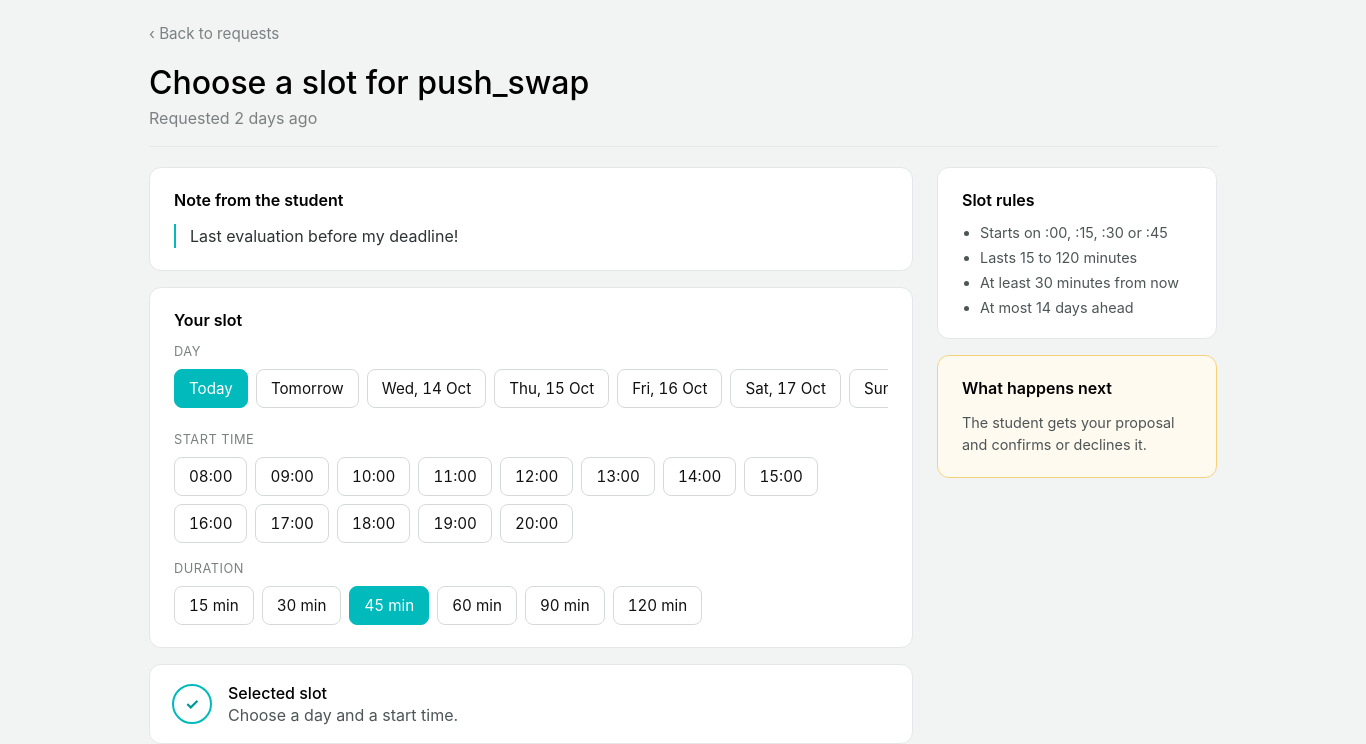
Test: PickSlotPage › keeps Submit disabled until a start time is chosen
The image size is (1366, 744).
Expected: the heading "Choose a slot for push_swap" is shown, [149, 63, 589, 102]
Click the button "Tomorrow": (307, 388) [256, 369, 359, 408]
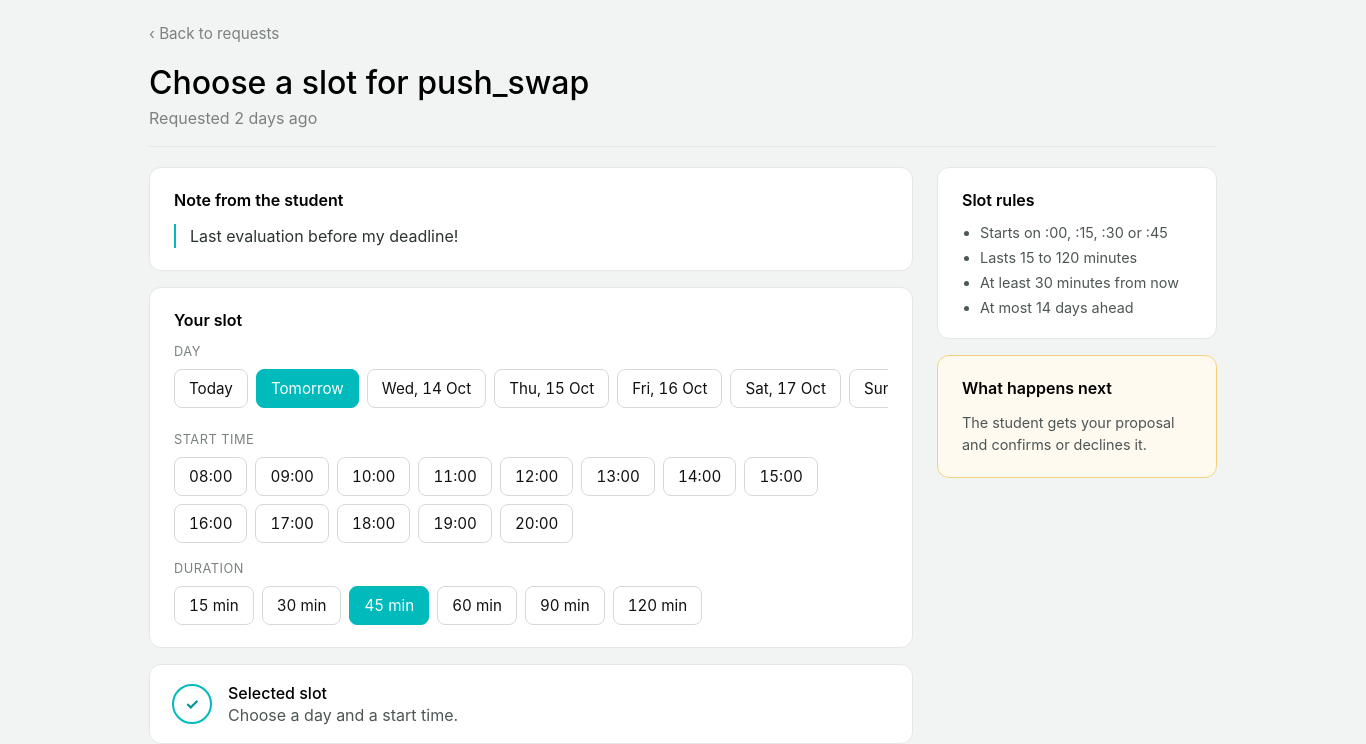
Click the button "10:00": (374, 476) [337, 457, 410, 496]
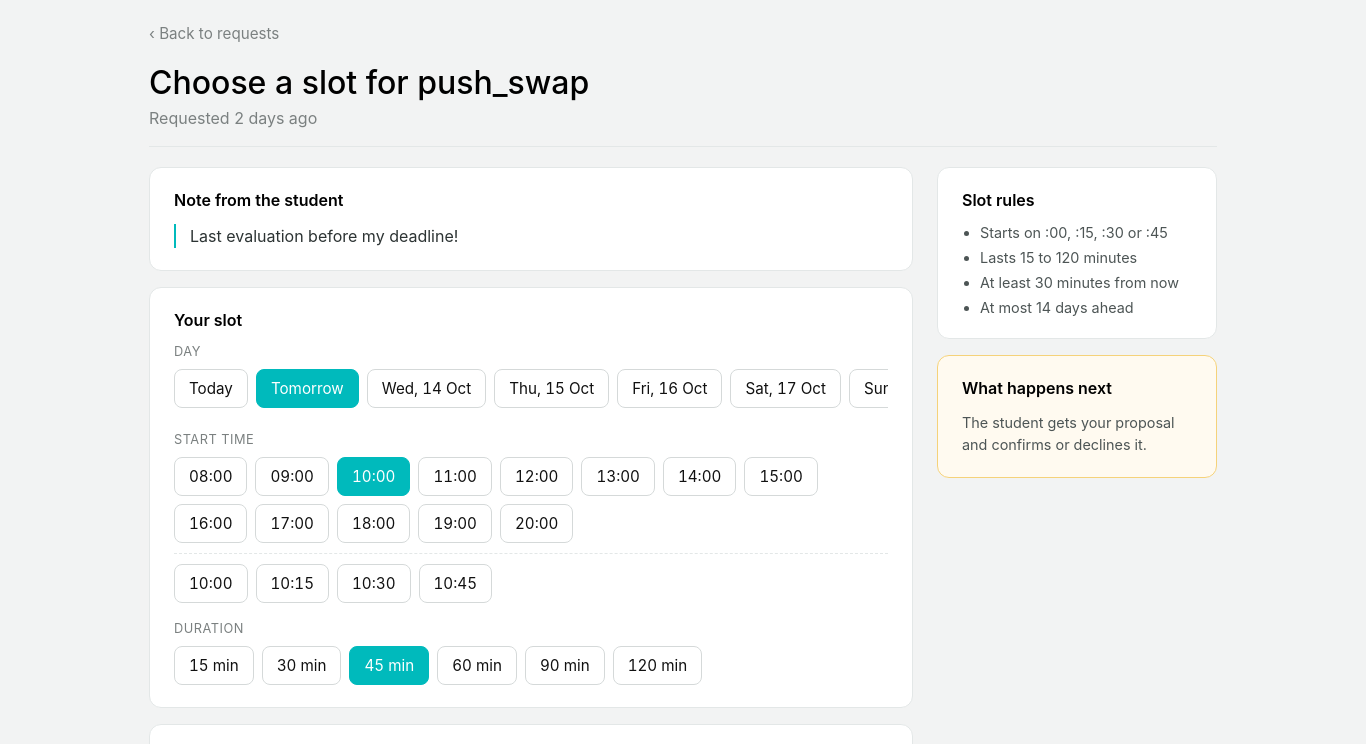
Click the button "10:15": (292, 584) [256, 564, 329, 603]
(page scrolled)
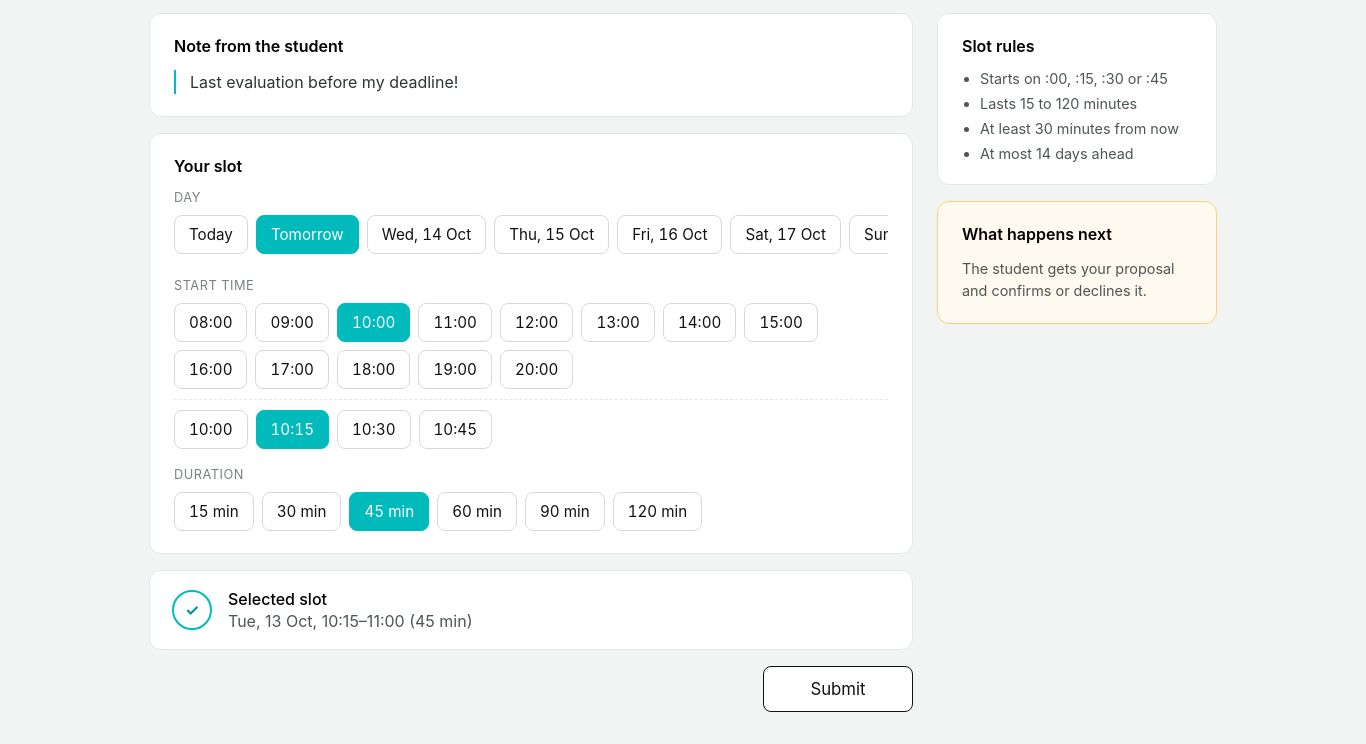
Expected: the button "Submit" is enabled, [763, 666, 913, 712]
Expected: the text "Tue, 13 Oct, 10:15–11:00 (45 min)" is shown, [228, 611, 472, 631]
